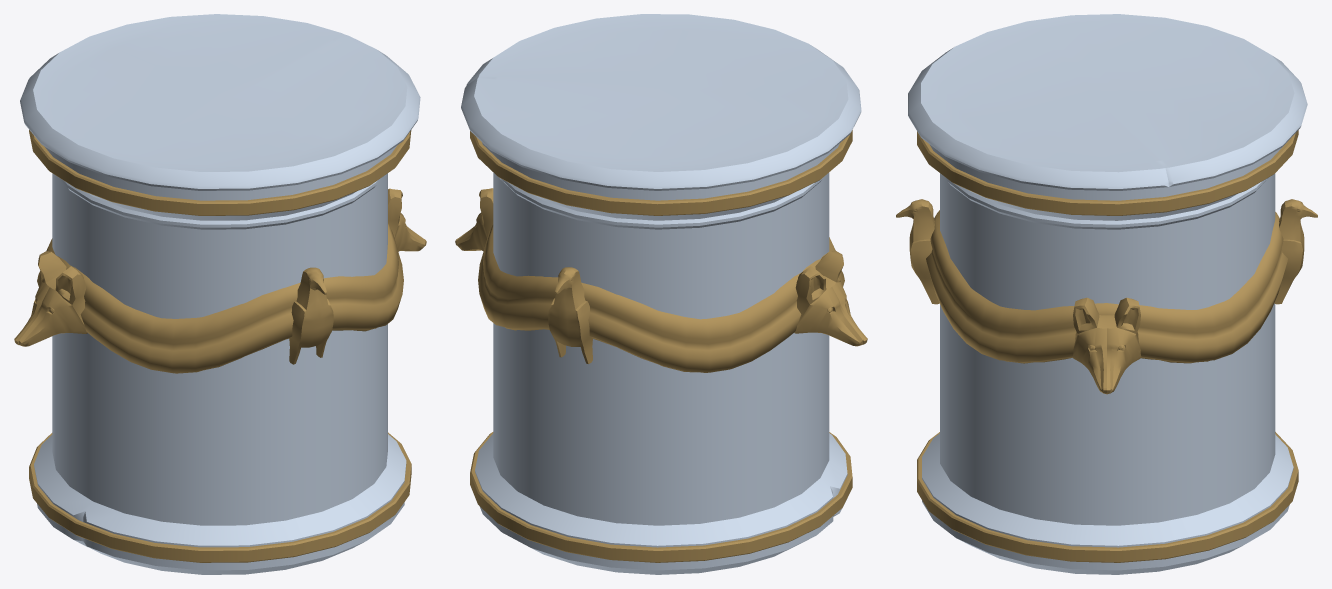
The model's file is Pedestal.fbx.
3 views of the same model, side by side, from view 1: azimuth 30°, elevation 25°; view 2: azimuth 150°, elevation 25°; view 3: azimuth 270°, elevation 25° (orthographic).
Visible parts, largest first — view 1: Cylinder, Cylinder.001; view 2: Cylinder, Cylinder.001; view 3: Cylinder, Cylinder.001.
Part boxes in pixels (x1=…): Cylinder: x1=20, y1=14, x2=420, y2=574; Cylinder.001: x1=14, y1=130, x2=426, y2=562; Cylinder: x1=461, y1=14, x2=861, y2=574; Cylinder.001: x1=455, y1=130, x2=867, y2=562; Cylinder: x1=908, y1=14, x2=1307, y2=574; Cylinder.001: x1=896, y1=130, x2=1317, y2=562.
Size of the model in its own units: 282 by 270 by 251.
